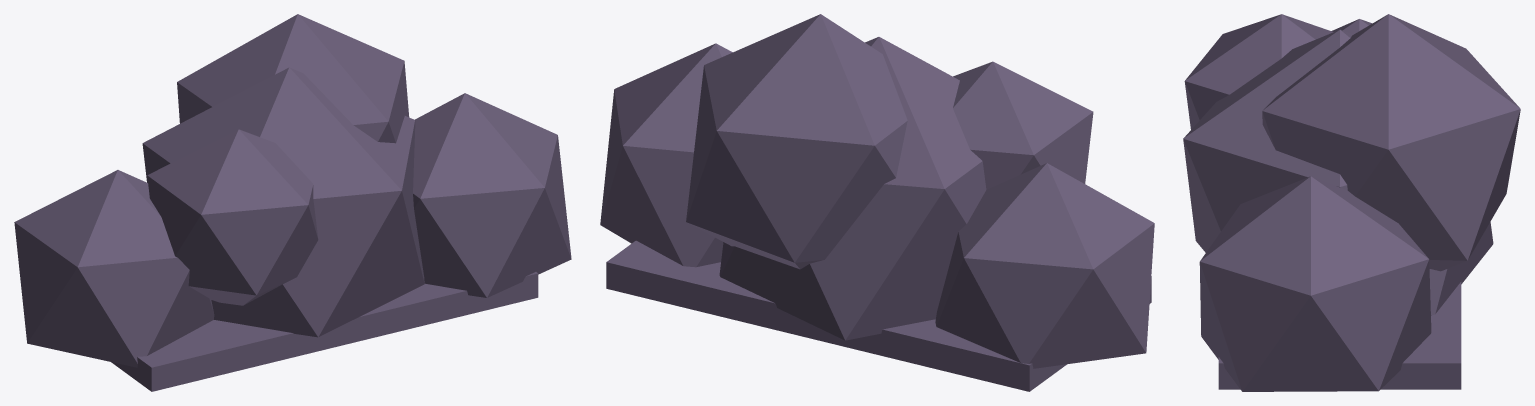
File: storm-cloud.glb
3 views of the same model, side by side, from view 1: azimuth 30°, elevation 25°; view 2: azimuth 150°, elevation 25°; view 3: azimuth 270°, elevation 25° (orthographic). The views are drawn at different scales.
Visible parts, largest first — view 1: storm-cloud; view 2: storm-cloud; view 3: storm-cloud.
Part boxes in pixels (x1=…): storm-cloud: x1=14, y1=14, x2=571, y2=391; storm-cloud: x1=600, y1=14, x2=1154, y2=391; storm-cloud: x1=1183, y1=14, x2=1520, y2=391.
Bounding box in the file's own units: 1.32 × 0.6577 × 0.6954.
